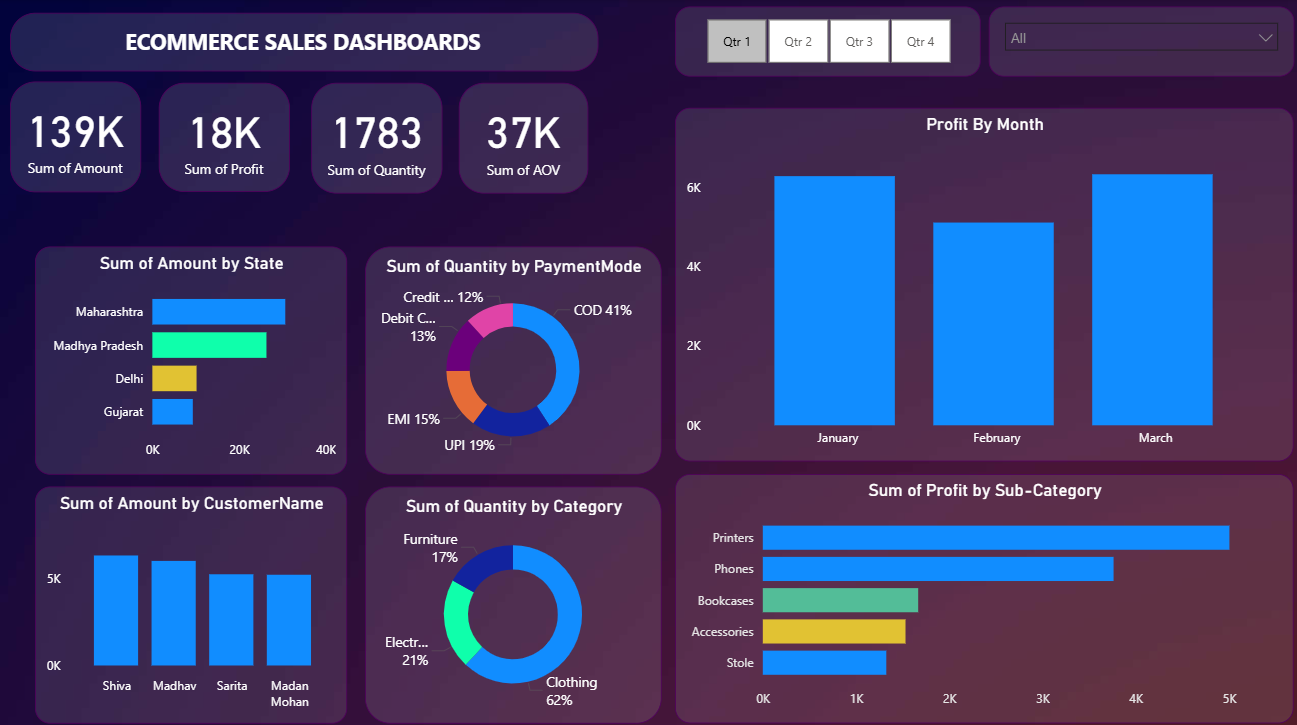

The dashboard page shown, as its layout file describes it:
{"tool":"powerbi","page":{"name":"Page 1","canvas":[1280,720],"ordinal":0},"visuals":[{"type":"textbox","box":[10,13.8,577.5,57.5],"z":0},{"type":"columnChart","title":"Profit By Month","fields":{"Category":["Orders.Order Date.Variation.Date Hierarchy.Month"],"Y":["Sum(Details.Profit)"]},"box":[662.5,106.2,607.5,347.5],"z":1000},{"type":"barChart","fields":{"Category":["Details.Sub-Category"],"Y":["Sum(Details.Profit)"]},"box":[662.5,466.2,607.5,245],"z":2000},{"type":"donutChart","fields":{"Category":["Details.Category"],"Y":["Sum(Details.Quantity)"]},"box":[358.8,478.8,291.2,232.5],"z":3000},{"type":"donutChart","fields":{"Y":["Sum(Details.Quantity)"],"Category":["Details.PaymentMode"]},"box":[358.8,242.5,291.2,223.8],"z":4000},{"type":"card","fields":{"Values":["Sum(Details.Amount)"]},"box":[10,81.2,128.8,108.8],"z":5000},{"type":"card","fields":{"Values":["Sum(Details.Profit)"]},"box":[156.2,82.5,128.8,107.5],"z":6000},{"type":"card","fields":{"Values":["Sum(Details.Quantity)"]},"box":[305,82.5,128.8,108.8],"z":7000},{"type":"card","fields":{"Values":["Sum(Details.AOV)"]},"box":[450,82.5,127.5,108.8],"z":8000},{"type":"barChart","fields":{"Category":["Orders.State"],"Y":["Sum(Details.Amount)"]},"box":[33.8,242.5,306.2,223.8],"z":9000},{"type":"columnChart","fields":{"Category":["Orders.CustomerName"],"Y":["Sum(Details.Amount)"]},"box":[33.8,478.8,306.2,232.5],"z":10000},{"type":"slicer","fields":{"Values":["Orders.Order Date.Variation.Date Hierarchy.Quarter"]},"box":[662.5,7.5,300,68.8],"z":11000},{"type":"slicer","fields":{"Values":["Orders.State"]},"box":[970,7.5,300,68.8],"z":12000}]}

Visuals, with their boxes in screenshot pixels (x1, y1, x2, y2), scaled from the page's 1280x720 canvas onto the 1297x725 screenshot:
textbox: [x1=10, y1=14, x2=595, y2=72]
"Profit By Month" columnChart: [x1=671, y1=107, x2=1287, y2=457]
barChart - Details.Sub-Category x Sum(Details.Profit): [x1=671, y1=469, x2=1287, y2=716]
donutChart - Details.Category x Sum(Details.Quantity): [x1=364, y1=482, x2=659, y2=716]
donutChart - Sum(Details.Quantity) x Details.PaymentMode: [x1=364, y1=244, x2=659, y2=470]
card - Sum(Details.Amount): [x1=10, y1=82, x2=141, y2=191]
card - Sum(Details.Profit): [x1=158, y1=83, x2=289, y2=191]
card - Sum(Details.Quantity): [x1=309, y1=83, x2=440, y2=193]
card - Sum(Details.AOV): [x1=456, y1=83, x2=585, y2=193]
barChart - Orders.State x Sum(Details.Amount): [x1=34, y1=244, x2=345, y2=470]
columnChart - Orders.CustomerName x Sum(Details.Amount): [x1=34, y1=482, x2=345, y2=716]
slicer - Orders.Order Date.Variation.Date Hierarchy.Quarter: [x1=671, y1=8, x2=975, y2=77]
slicer - Orders.State: [x1=983, y1=8, x2=1287, y2=77]
